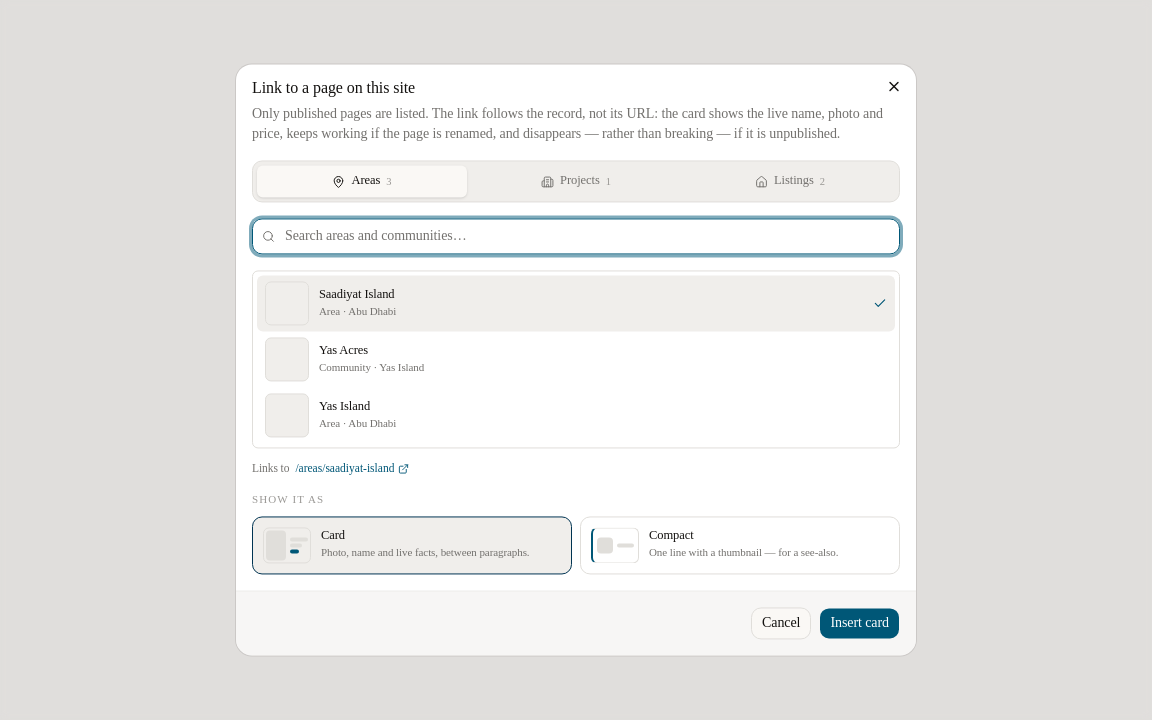
Test: InternalLinkDialog › says so when nothing matches
Type "atlantis" into the dropdown at (576, 236), box [252,218,900,254]
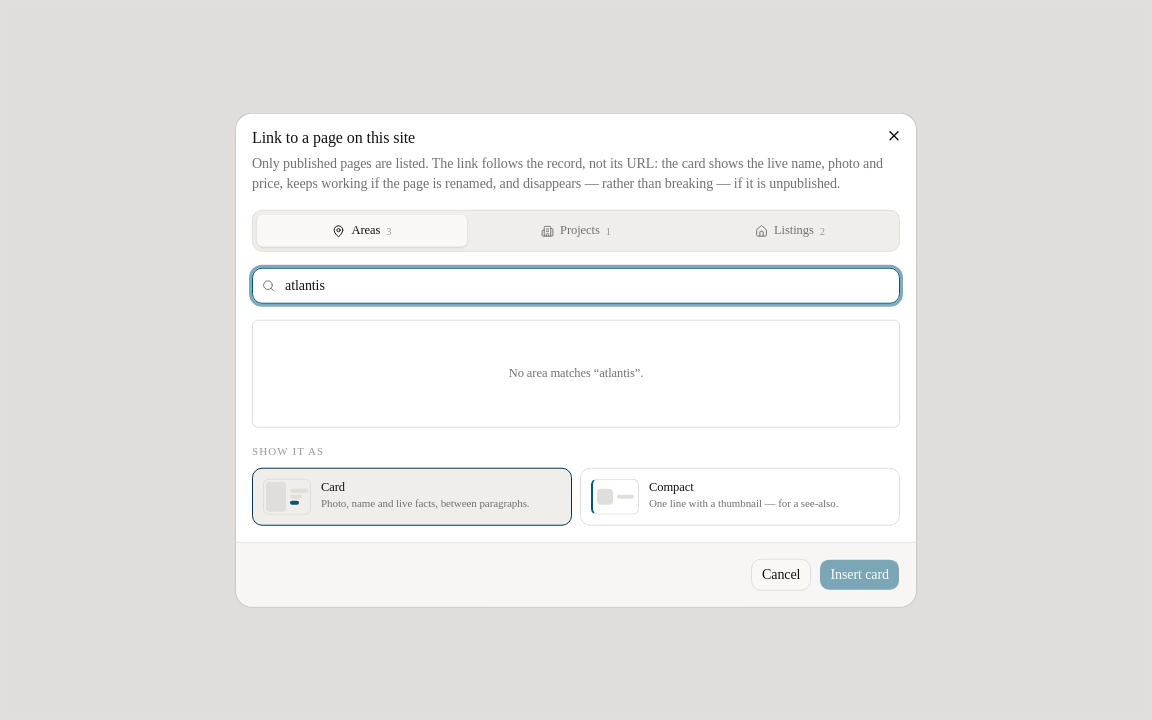
Expected: no options are shown
Expected: the text "No area matches “atlantis”." is shown, [509,366,643,380]
